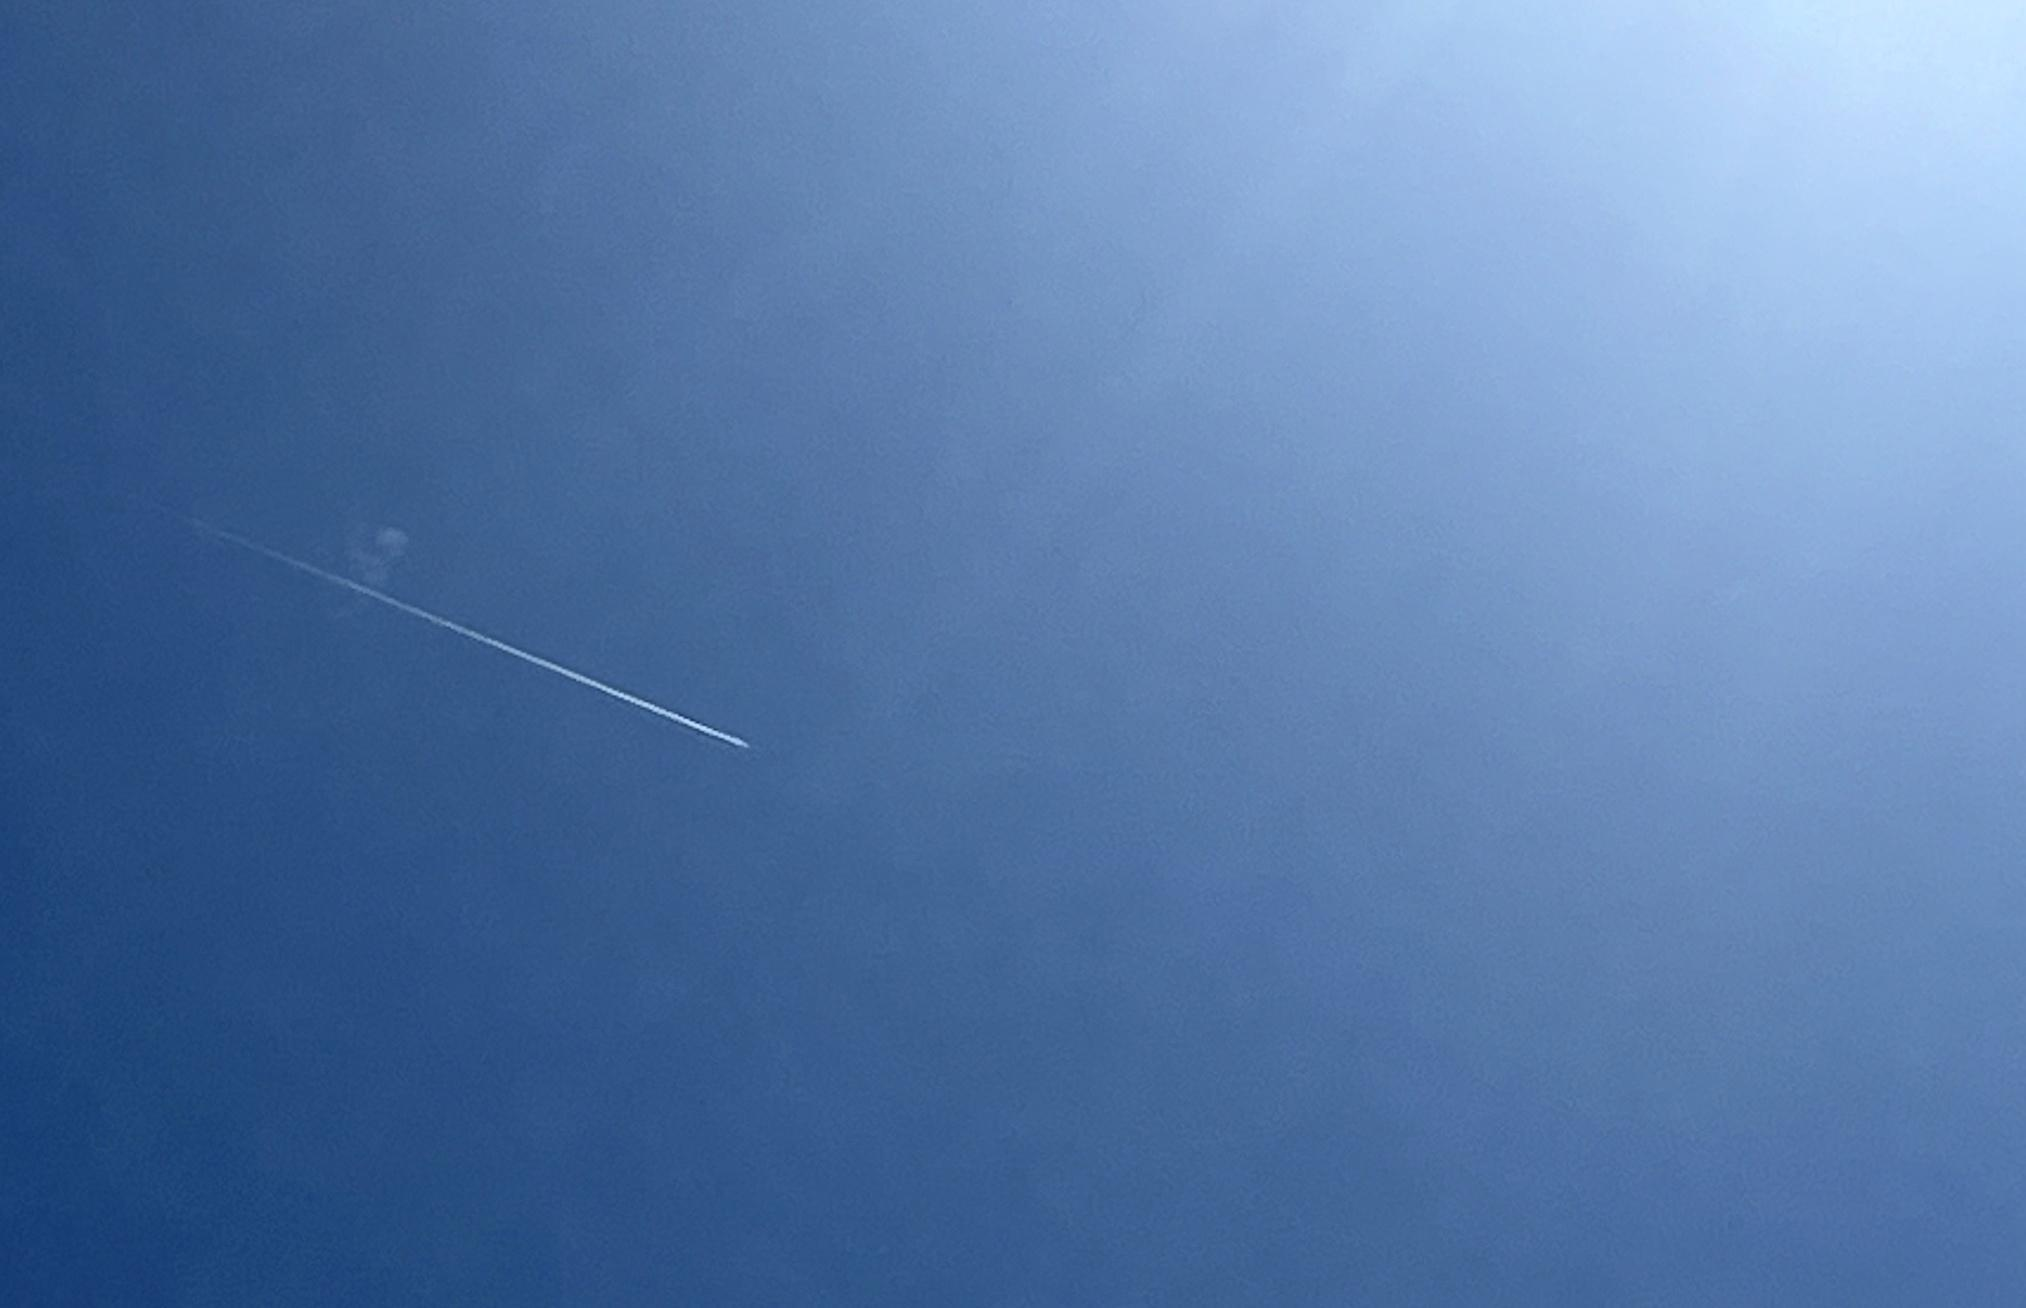Plane: (529, 648, 760, 775)
